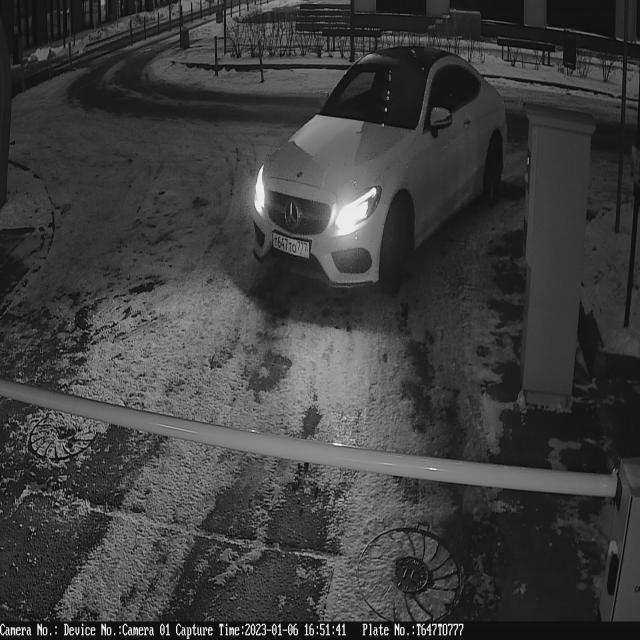car-plate-numbers: (272, 227, 316, 265)
